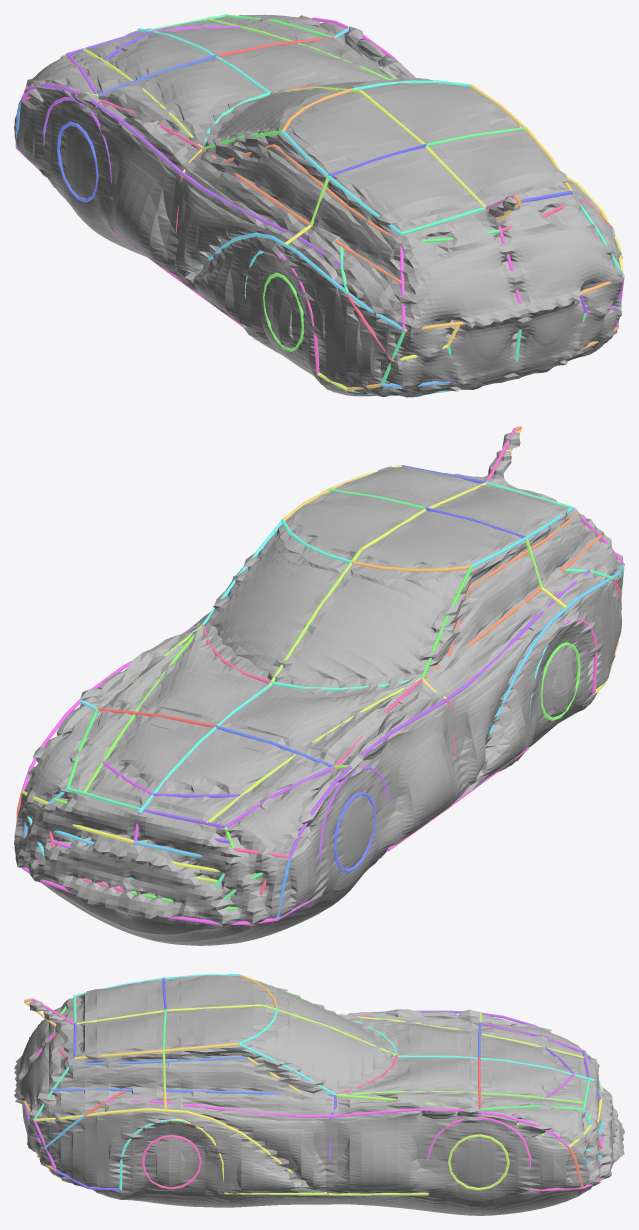
File: ils_car4.gltf
3 views of the same model, one above another, from view 1: azimuth 30°, elevation 25°; view 2: azimuth 150°, elevation 25°; view 3: azimuth 270°, elevation 25° (orthographic). The views are drawn at different scales.
Bounding box in the file's own units: 0.4074 × 0.332 × 0.9214.
